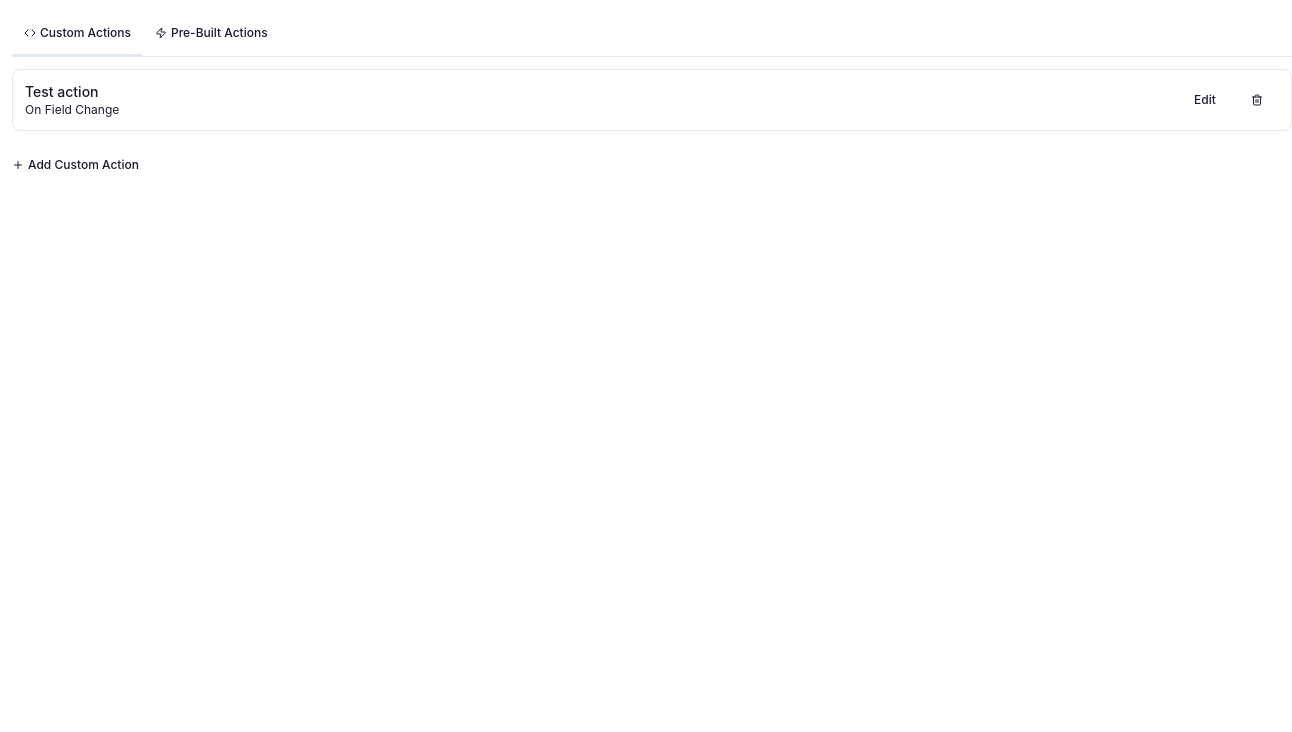
Test: ActionEditor › prohibited construct warnings › disables save button when prohibited constructs are detected
Click the button "Edit".
click(1205, 100)  # box [1183,78,1227,122]
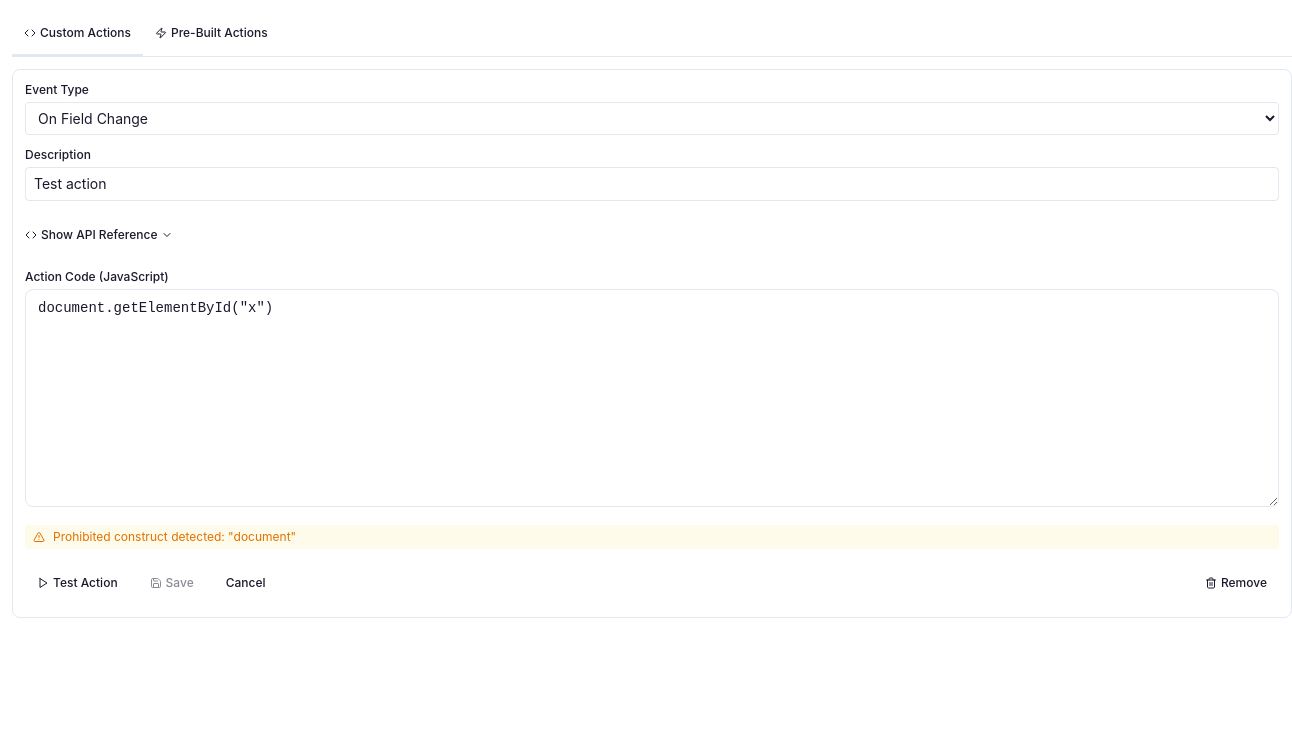
Expected: the button "Save" is disabled, [138,561,206,605]
